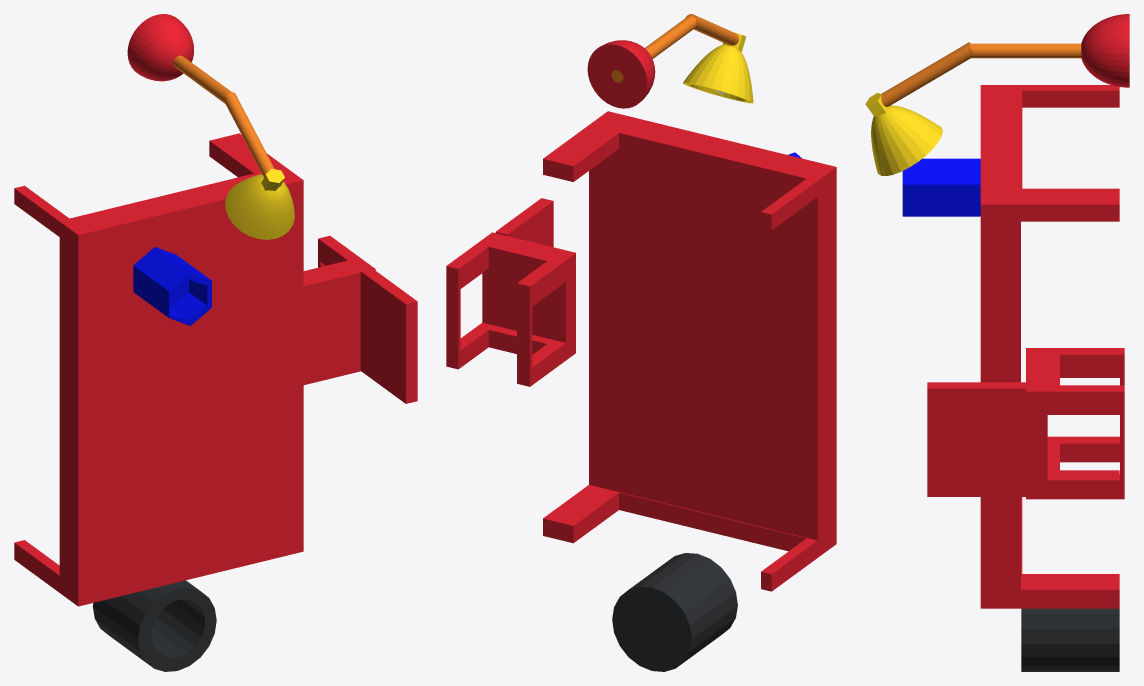
Rendered from tinker.obj.
3 views of the same model, side by side, from view 1: azimuth 30°, elevation 25°; view 2: azimuth 150°, elevation 25°; view 3: azimuth 270°, elevation 25° (orthographic). The views are drawn at different scales.
Visible parts, largest first — view 1: group_0_15277357, group_0_2829873, group_0_3071, group_0_16768282, group_0_16089887; view 2: group_0_15277357, group_0_2829873, group_0_16768282, group_0_16089887; view 3: group_0_15277357, group_0_2829873, group_0_3071, group_0_16768282, group_0_16089887.
Boxes of the visible parts, x1,y1,x2,y2 form: group_0_15277357: [14, 14, 417, 606]; group_0_2829873: [92, 580, 216, 671]; group_0_3071: [133, 247, 211, 325]; group_0_16768282: [225, 168, 294, 239]; group_0_16089887: [173, 55, 274, 176]; group_0_15277357: [446, 40, 836, 591]; group_0_2829873: [612, 553, 737, 671]; group_0_16768282: [683, 32, 753, 103]; group_0_16089887: [611, 14, 738, 82]; group_0_15277357: [927, 14, 1129, 608]; group_0_2829873: [1021, 608, 1119, 671]; group_0_3071: [902, 158, 980, 216]; group_0_16768282: [865, 93, 942, 176]; group_0_16089887: [881, 42, 1081, 106].
Bounding box in the file's own units: 81 × 149 × 53.6.
